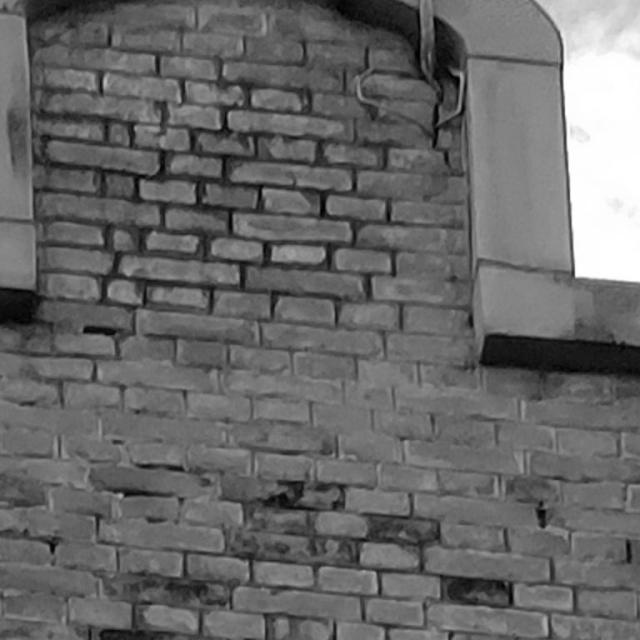crack: (332, 6, 456, 172)
